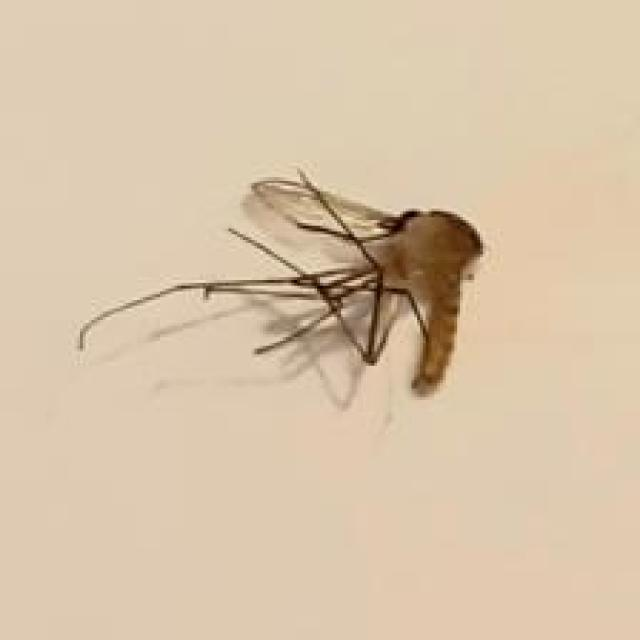Culex: (76, 165, 484, 408)
